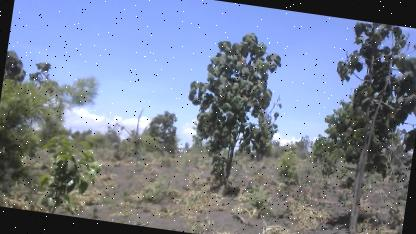tree: (306, 18, 416, 234), (172, 22, 290, 200)
